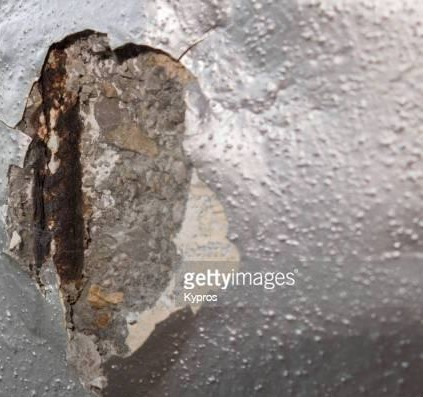Exposed reinforcement: (27, 49, 85, 285)
Spalling: (1, 28, 243, 367)
